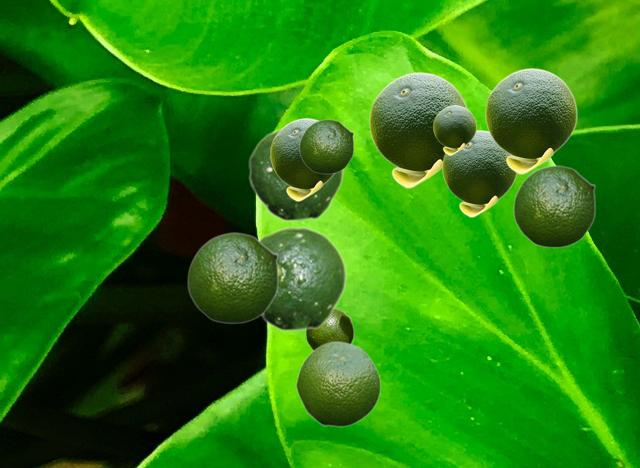calamansi: (369, 72, 467, 187), (485, 68, 576, 173), (259, 226, 346, 331), (248, 125, 343, 221), (187, 232, 278, 323), (295, 340, 380, 426), (513, 165, 595, 247), (442, 130, 516, 216), (270, 118, 334, 200), (299, 119, 353, 173), (433, 105, 475, 154), (305, 308, 353, 349)
